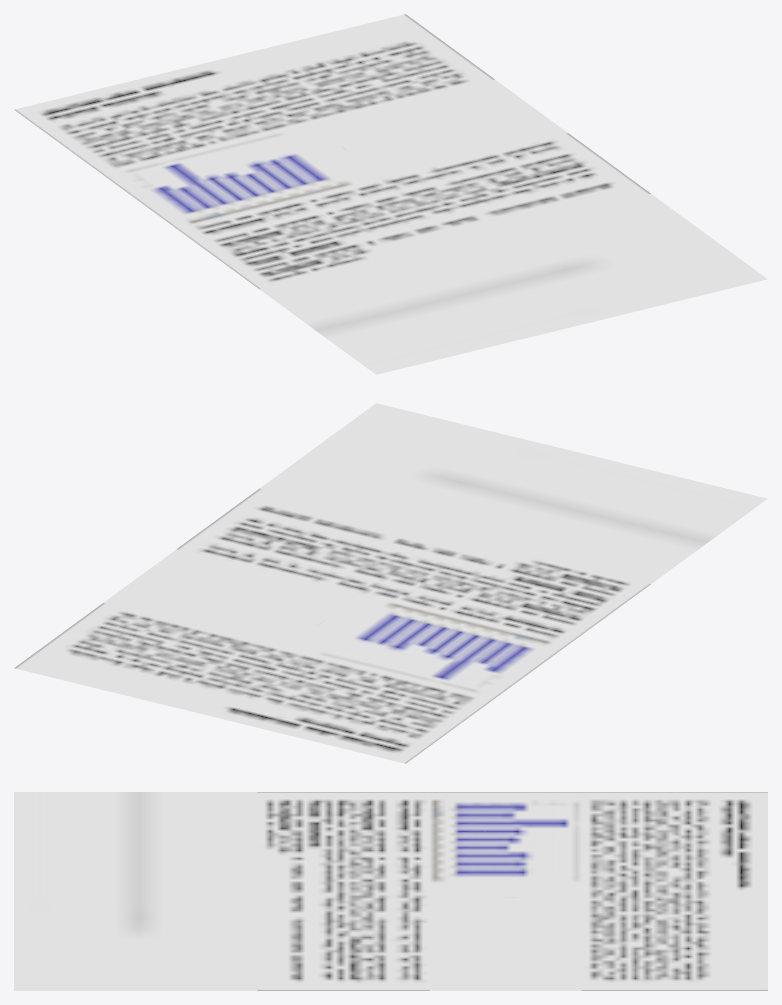
File: document_sheet_3.fbx
The picture shows the model from 3 angles, top to bottom: view 1: azimuth 30°, elevation 25°; view 2: azimuth 150°, elevation 25°; view 3: azimuth 270°, elevation 25°; orthographic projection. The views are drawn at different scales.
Visible parts, largest first — view 1: document_sheet_3; view 2: document_sheet_3; view 3: document_sheet_3.
Part boxes in pixels (x1=…): document_sheet_3: x1=14, y1=14, x2=767, y2=374; document_sheet_3: x1=14, y1=403, x2=767, y2=763; document_sheet_3: x1=14, y1=792, x2=767, y2=990.
Bounding box in the file's own units: 19.27 × 3.61e-15 × 30.87.
